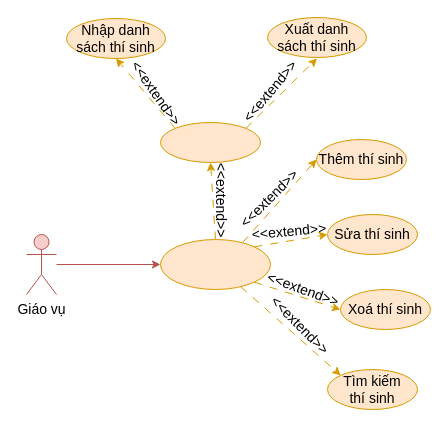
Image size: 448x427. Some labels were removed from this diagram. The shapes that lost their labels are listed below. From the top down, each one's centre as x and y in pixels, then its label:
At point (210, 142): "quản lý nhập xuất".
At point (215, 264): "Quản lý thí sinh".
